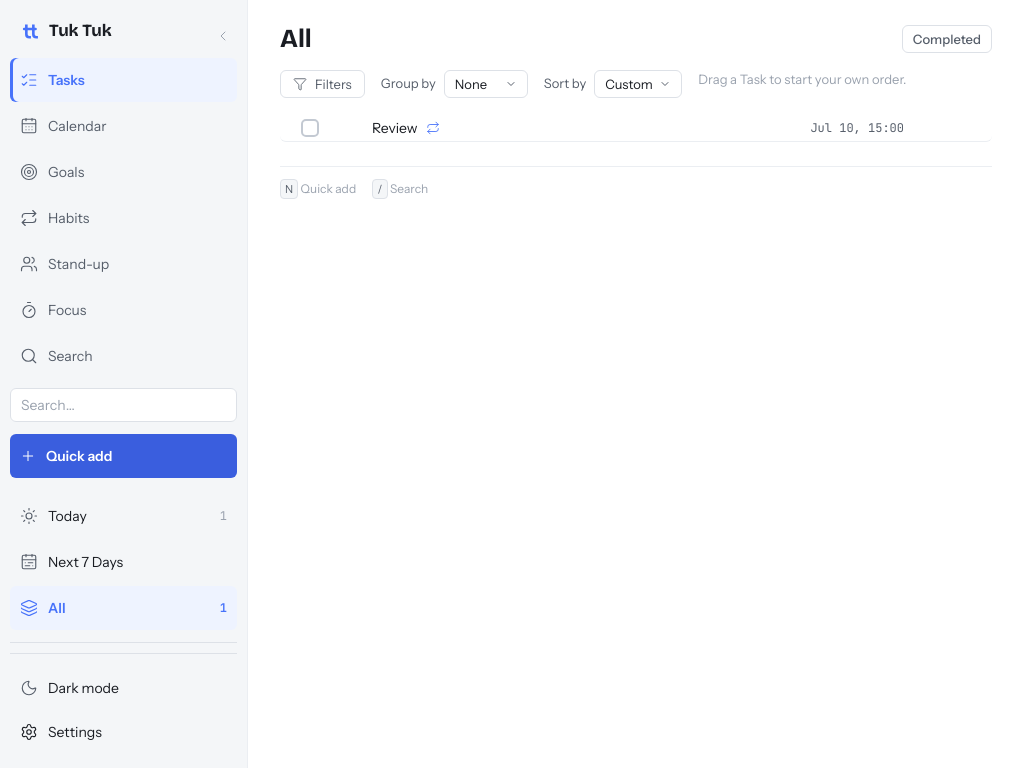
Test: Recurrence in the detail panel › shows a stored rule as a readable label
The image size is (1024, 768).
Click the button "Review": click(490, 128) left=372, top=119, right=608, bottom=137
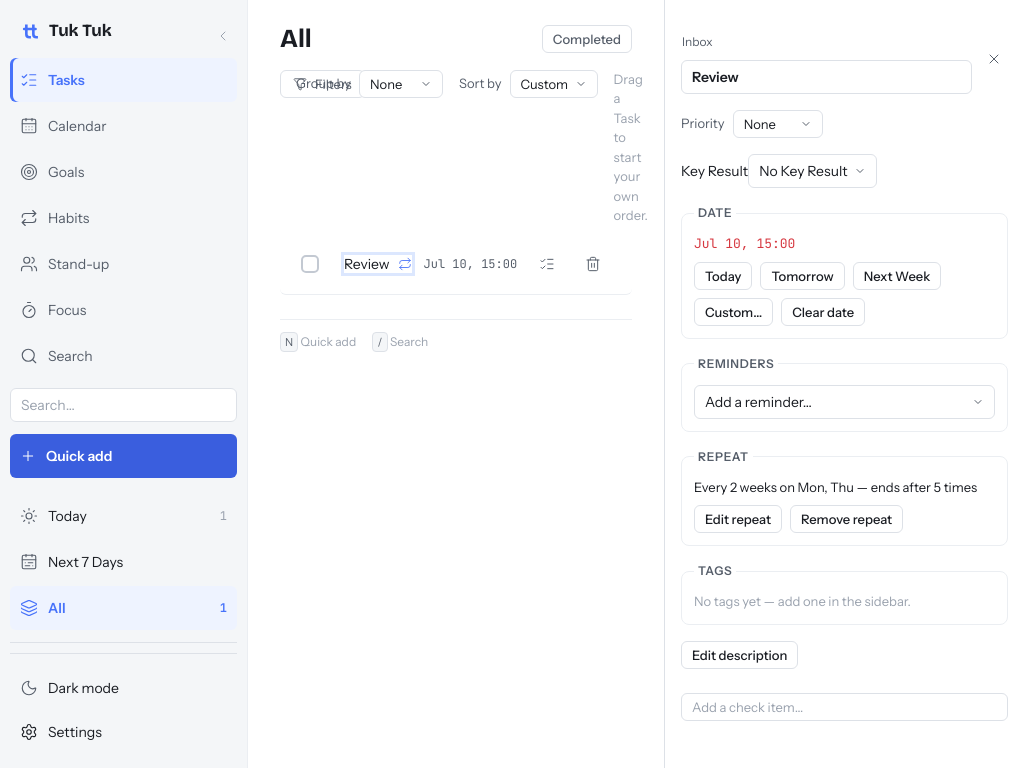
Now the text "Every 2 weeks on Mon, Thu — ends after 5 times" is shown, box left=694, top=478, right=977, bottom=497
